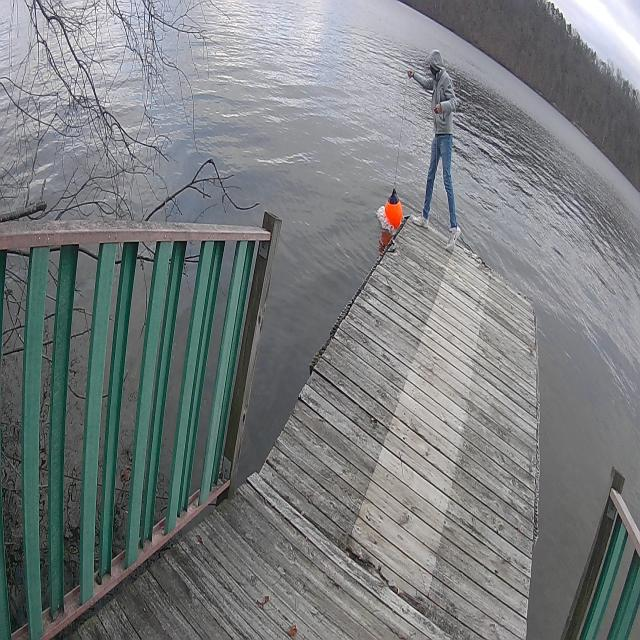Buoy: (383, 190, 405, 236)
